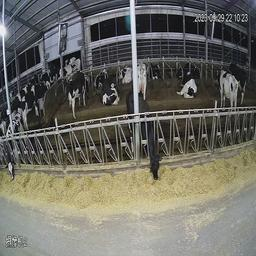cow: (124, 90, 164, 187), (4, 113, 29, 192), (210, 63, 238, 120), (19, 78, 47, 133), (229, 50, 250, 102), (174, 64, 199, 104), (98, 74, 122, 109), (38, 61, 59, 89), (136, 54, 149, 91), (61, 55, 82, 74), (118, 58, 133, 82)
